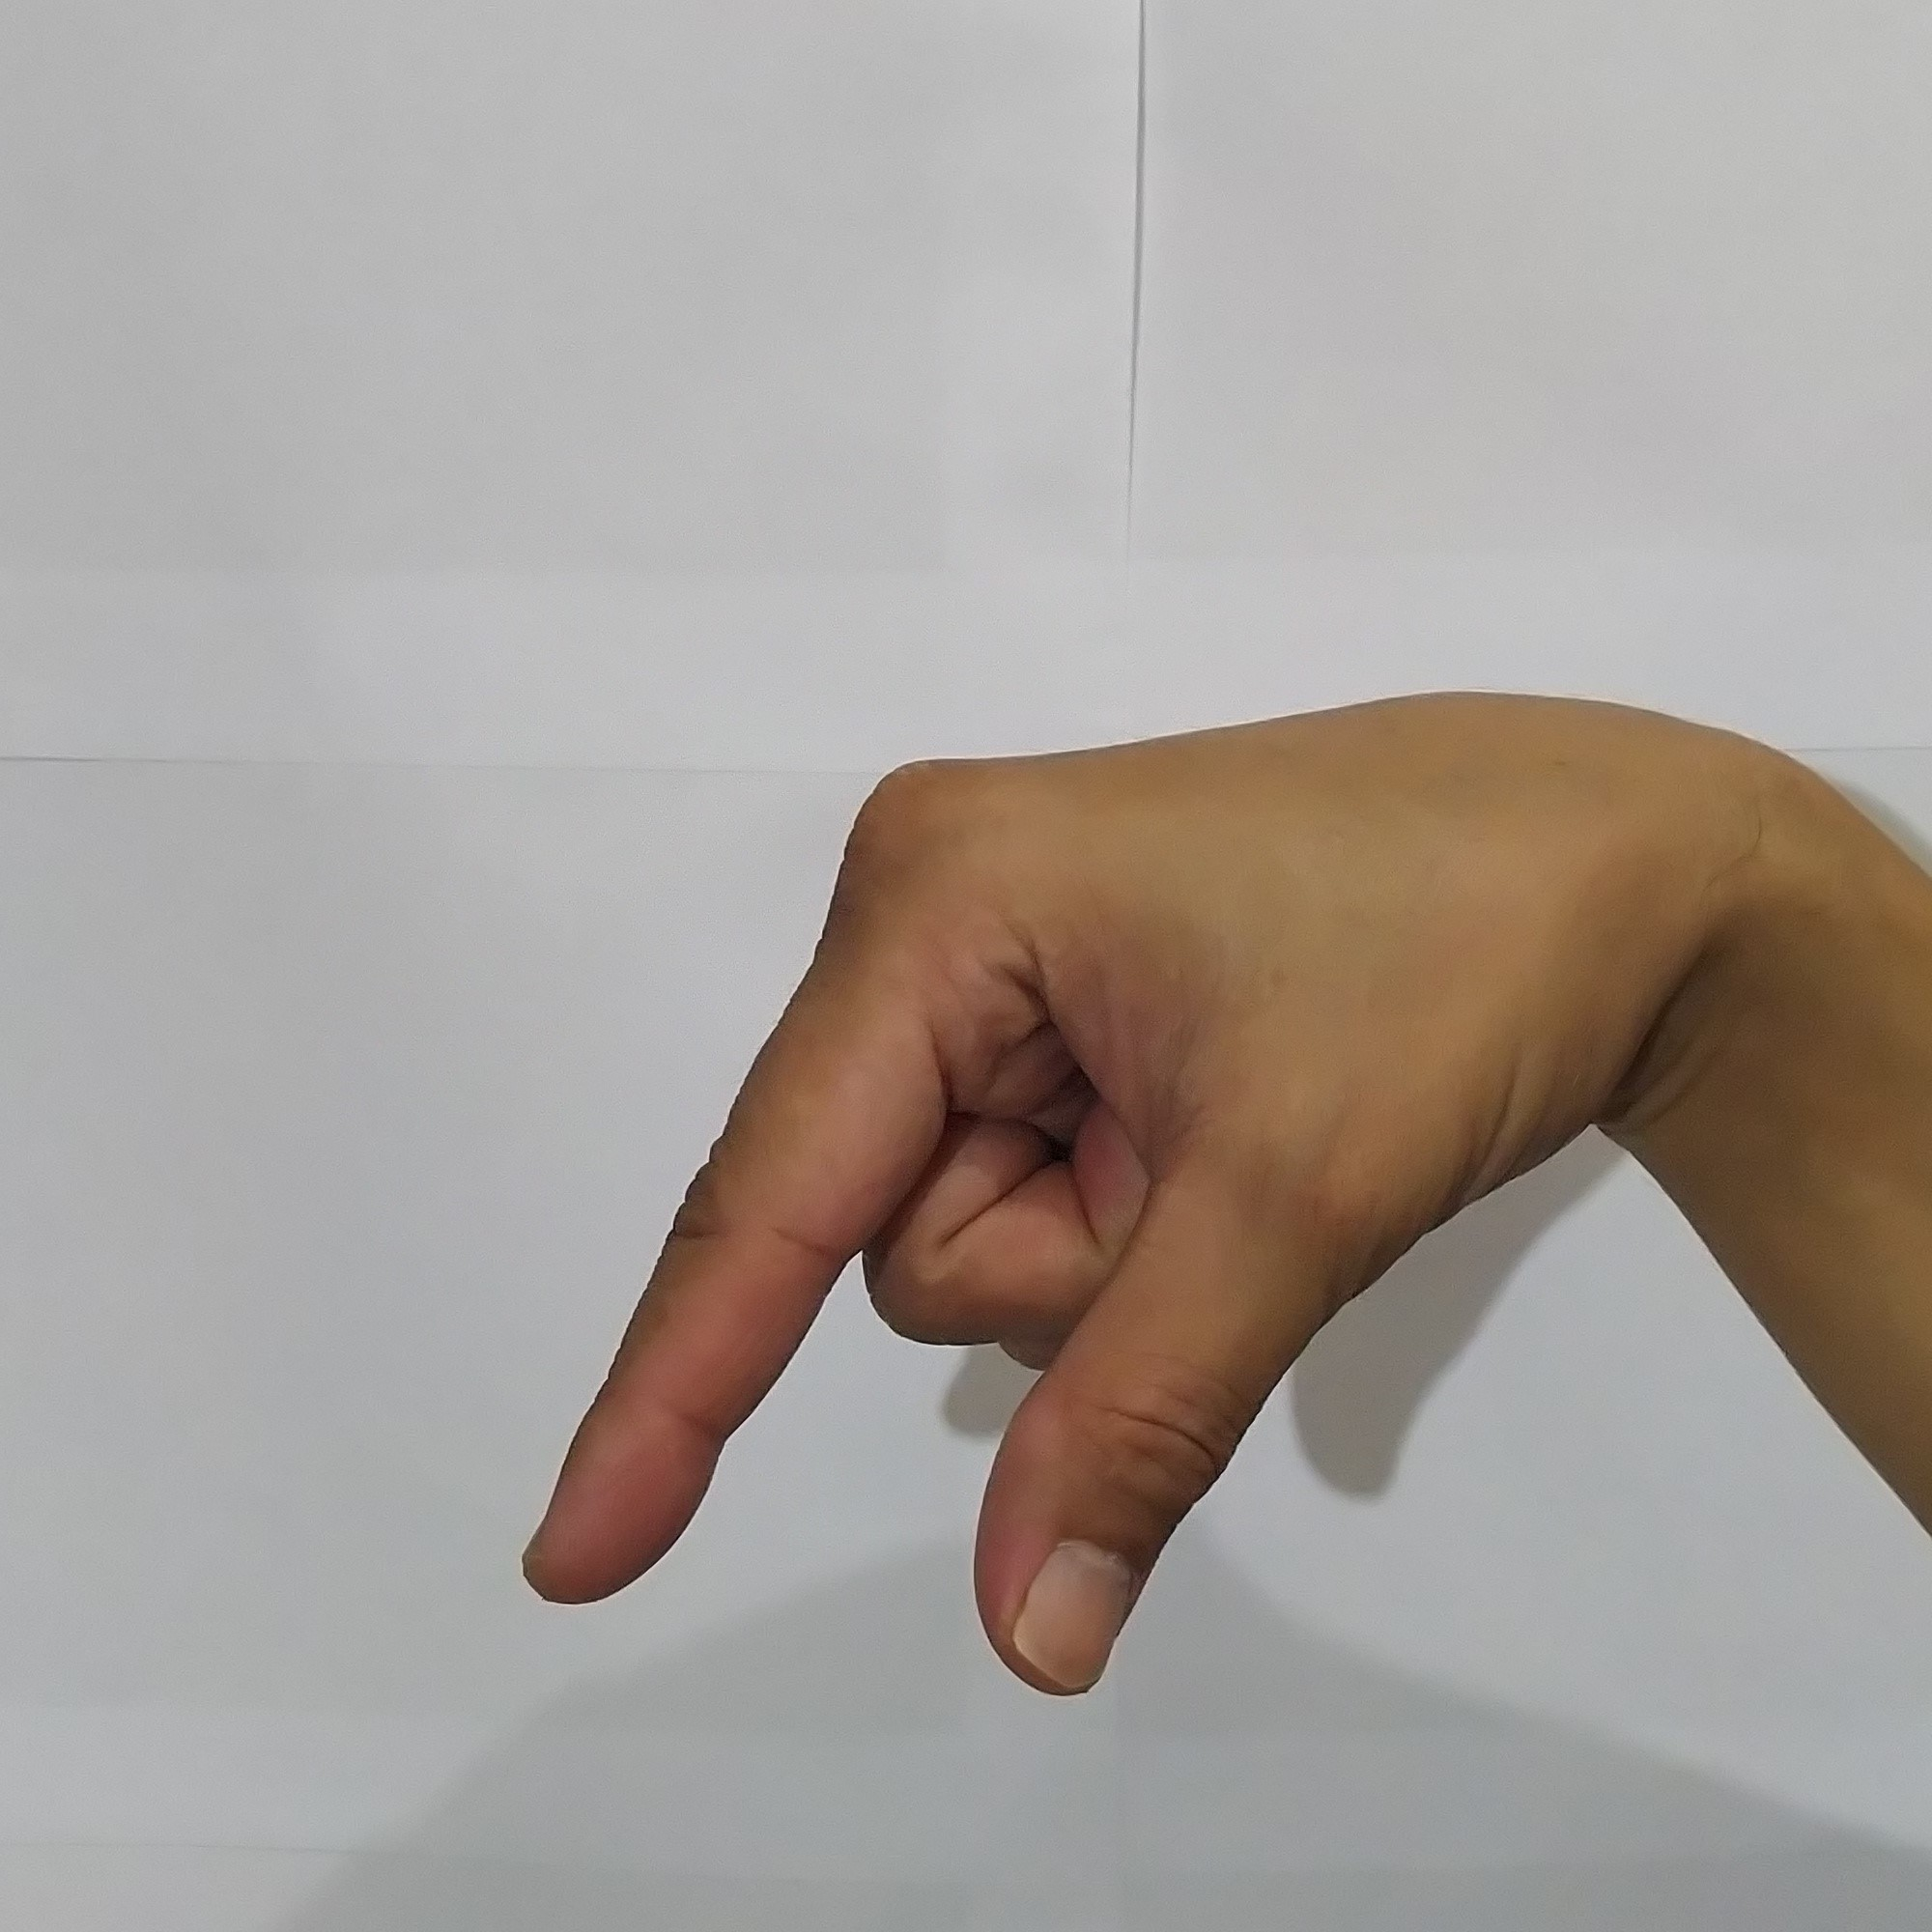Q: (476, 692, 1644, 1727)
